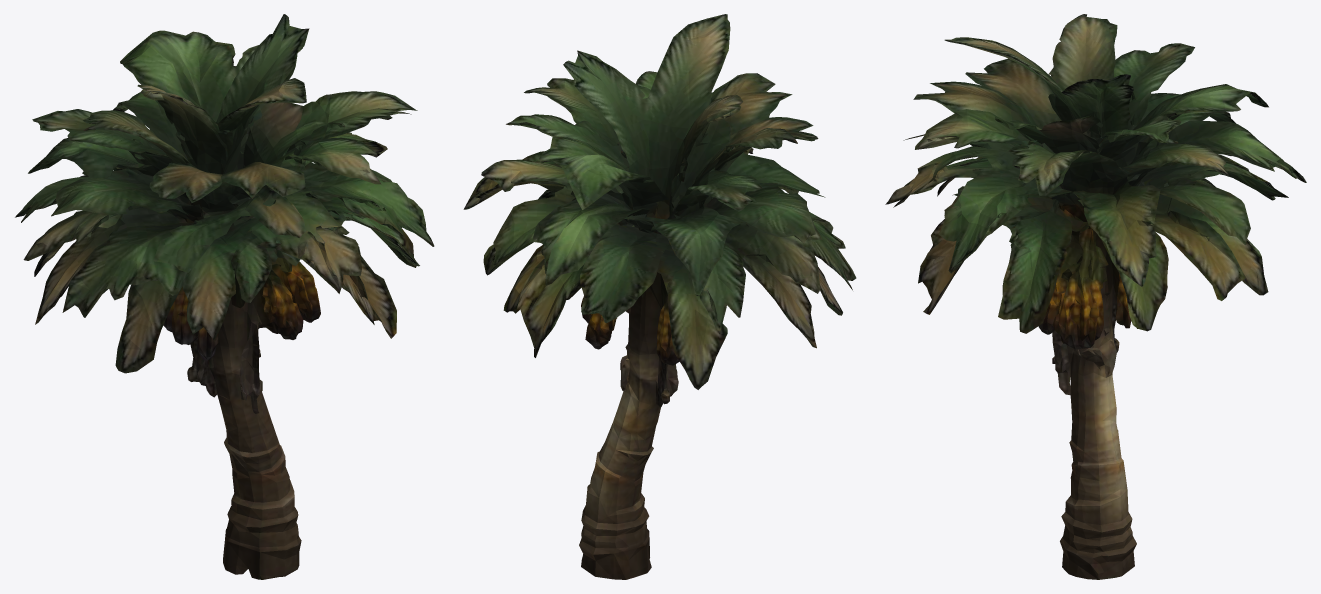
Rendered from palm.glb.
3 views of the same model, side by side, from view 1: azimuth 30°, elevation 25°; view 2: azimuth 150°, elevation 25°; view 3: azimuth 270°, elevation 25° (orthographic). The views are drawn at different scales.
Parts seen in each view (by area): view 1: world; view 2: world; view 3: world.
Part boxes in pixels (x1=…): world: x1=15, y1=14, x2=434, y2=579; world: x1=463, y1=14, x2=856, y2=579; world: x1=885, y1=14, x2=1306, y2=579.
Bounding box in the file's own units: 0.7154 × 0.9979 × 0.749.
Materials: 1 (1 with a texture image).
